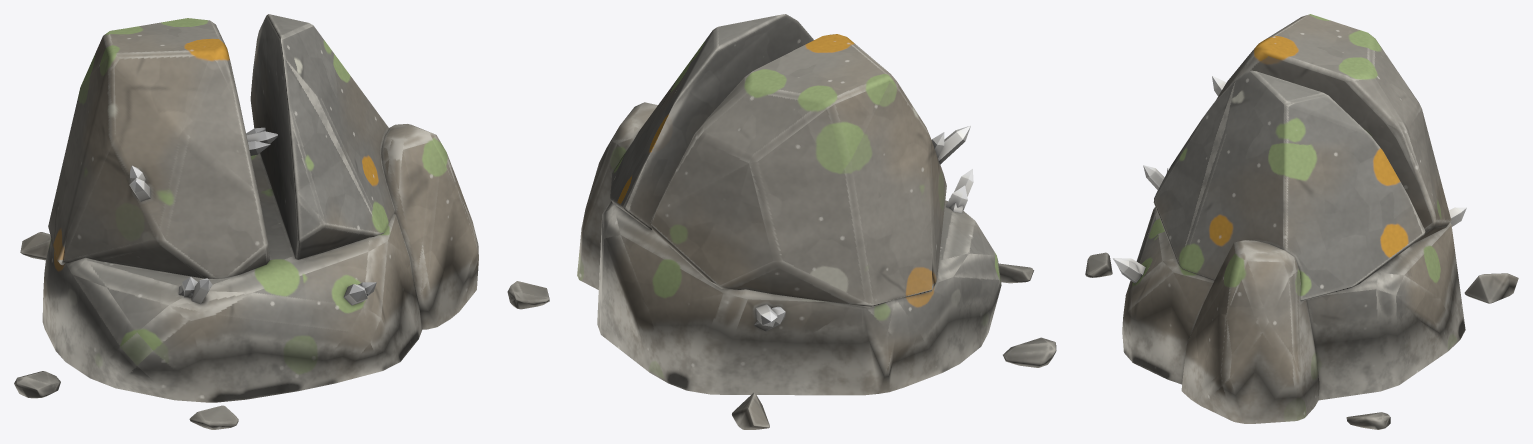
Rendered from stone_ore.fbx.
3 renders of one model, left to right at view 1: azimuth 30°, elevation 25°; view 2: azimuth 150°, elevation 25°; view 3: azimuth 270°, elevation 25°, orthographic. The views are drawn at different scales.
Visible parts, largest first — view 1: StoneOre_Body; view 2: StoneOre_Body; view 3: StoneOre_Body.
Part boxes in pixels (x1,y1,x2,y2): StoneOre_Body: (14, 14, 478, 429); StoneOre_Body: (507, 14, 1056, 429); StoneOre_Body: (1085, 14, 1518, 429).
Bounding box in the file's own units: 4.83 × 2.8 × 4.1.
1 material, 1 textured.
